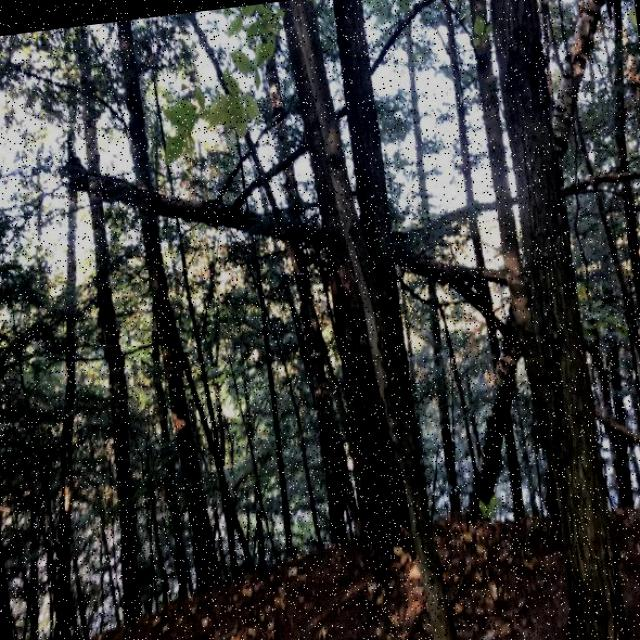fallen_object: (54, 58, 640, 504)
